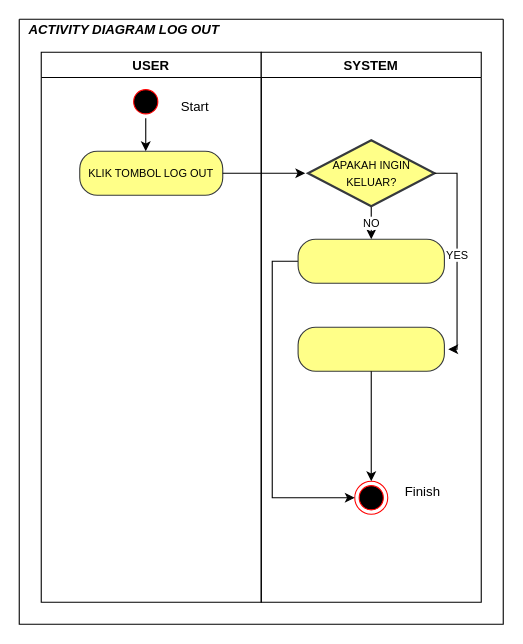
Some shapes in this 523 by 644 pixel diagram are drawn without their labels. The shapes that lost their labels are listed below. From the top down, each one's centre as x and y in pixels, then its label:
At [370,260]: "MENAMPILKAN HALAMAN SEDANG DIBUKA".
At [370,348]: "MENAMPILKAN HALAMAN LOGIN".
